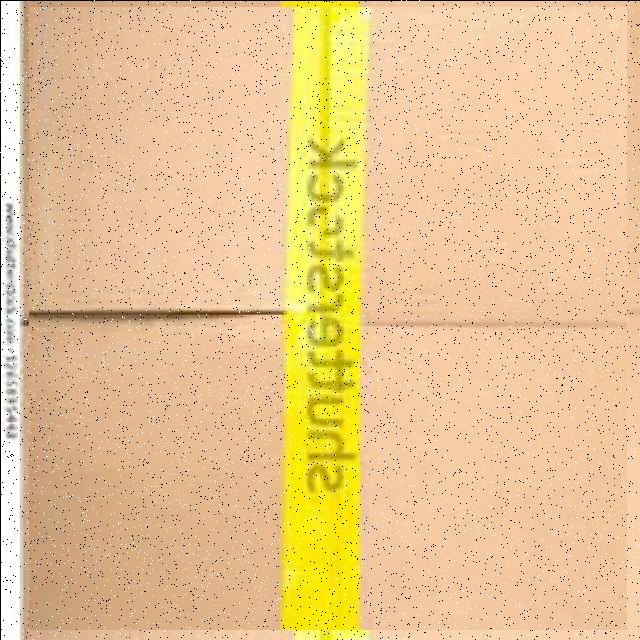normal: (28, 6, 626, 629)
